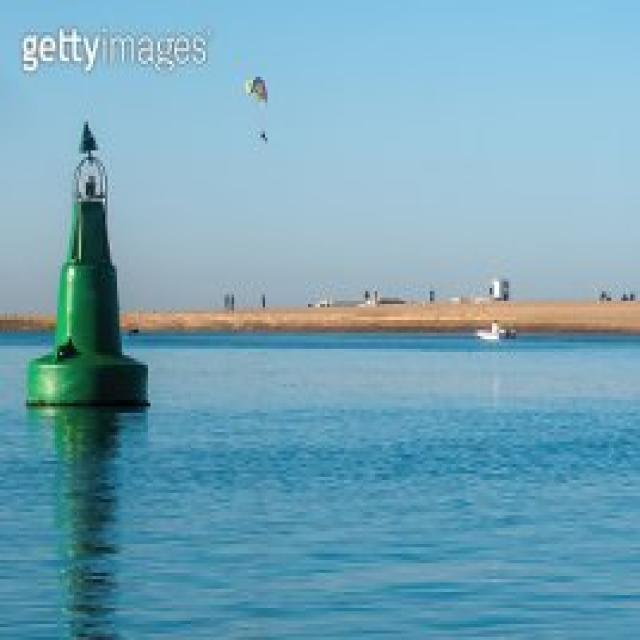buoy: (28, 99, 155, 439)
